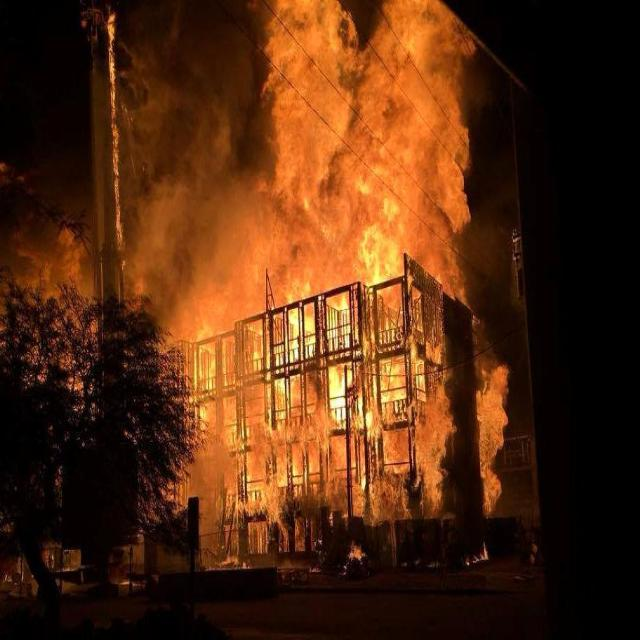Fire: (192, 1, 472, 562)
